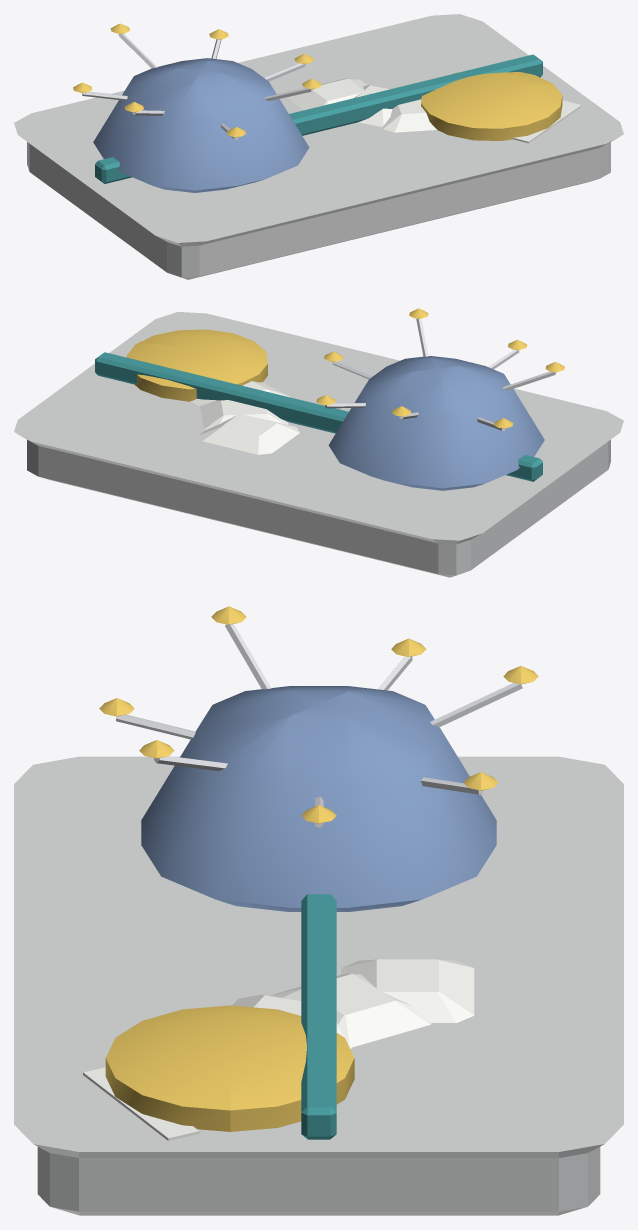
File: dry-cleaners-and-alterations-shop-pin-cushion-and-chal-e63a6928__34980.glb
3 views of the same model, one above another, from view 1: azimuth 30°, elevation 25°; view 2: azimuth 150°, elevation 25°; view 3: azimuth 270°, elevation 25° (orthographic). The views are drawn at different scales.
Parts seen in each view (by area): view 1: pin-cushion-and-chalk-tray; view 2: pin-cushion-and-chalk-tray; view 3: pin-cushion-and-chalk-tray.
Boxes of the visible parts, box(x1,y1,x2,y2) form: pin-cushion-and-chalk-tray: box(14, 14, 623, 279); pin-cushion-and-chalk-tray: box(14, 308, 623, 577); pin-cushion-and-chalk-tray: box(14, 606, 623, 1215).
Bounding box in the file's own units: 0.316 × 0.097 × 0.206.
